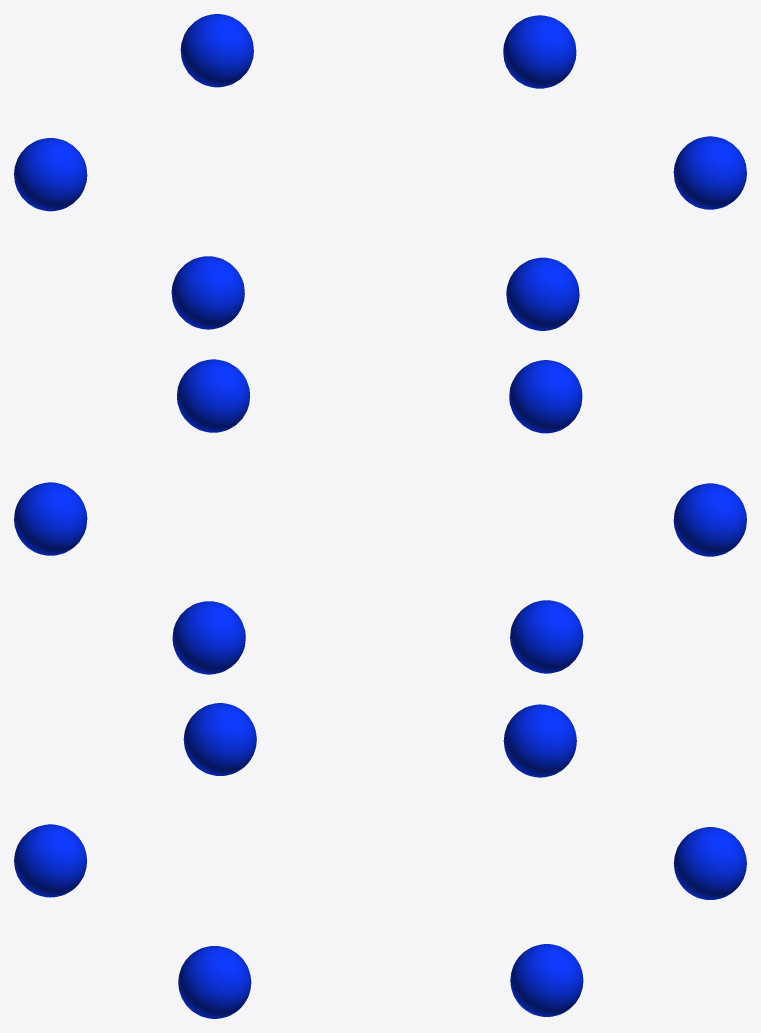
The picture shows the model from 3 angles, top to bottom: view 1: azimuth 30°, elevation 25°; view 2: azimuth 150°, elevation 25°; view 3: azimuth 270°, elevation 25°; orthographic projection.
Parts seen in each view (by area): view 1: Sphere046; view 2: Sphere046; view 3: Sphere046.
Part boxes in pixels (bbox=[...]): Sphere046: bbox=[14, 14, 746, 330]; Sphere046: bbox=[14, 359, 746, 674]; Sphere046: bbox=[14, 703, 746, 1018].
Size of the model in its own units: 72.73 by 8.22 by 82.29.
